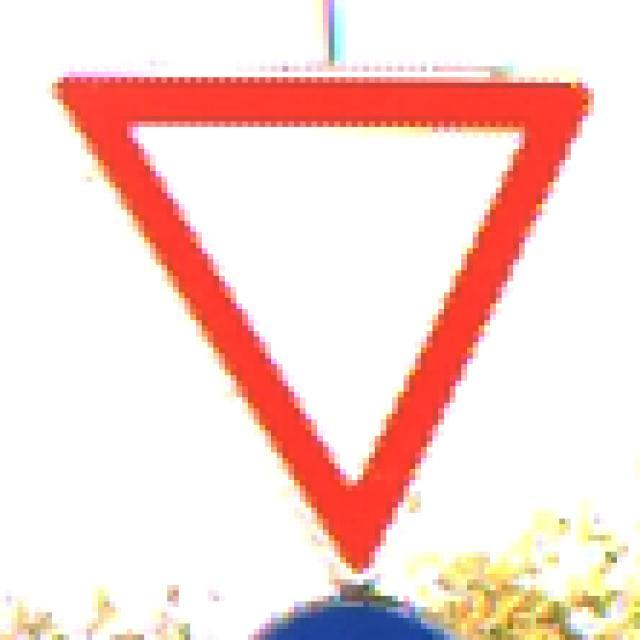give way: (51, 61, 596, 597)
